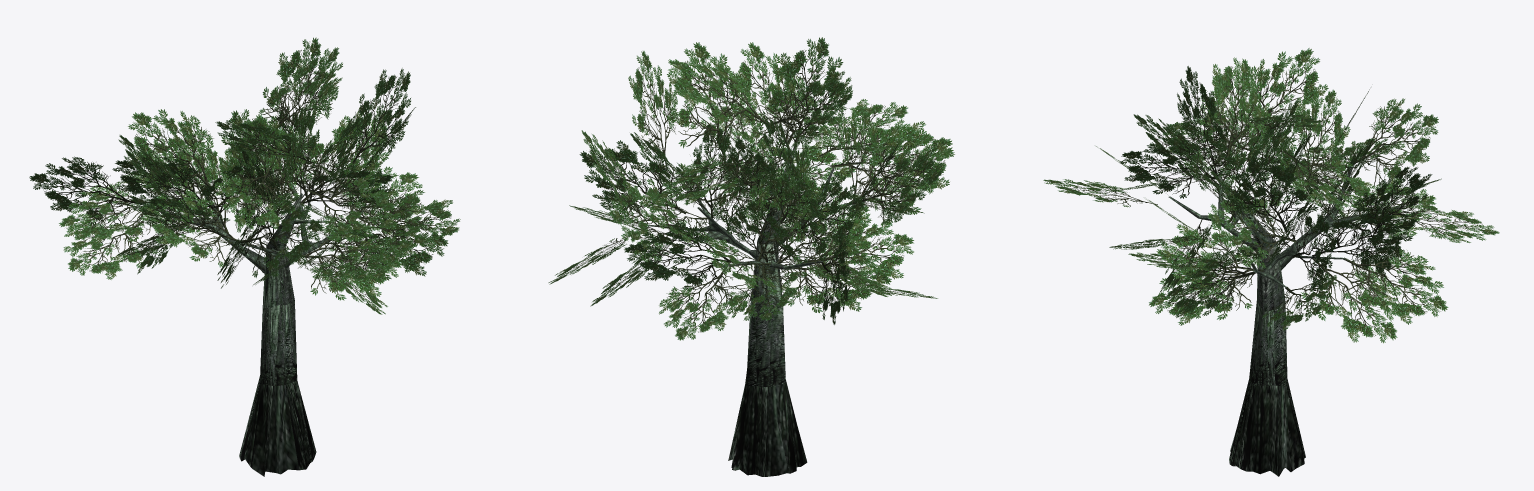
The model's file is big_tree1.fbx.
The picture shows the model from 3 angles, left to right: view 1: azimuth 30°, elevation 25°; view 2: azimuth 150°, elevation 25°; view 3: azimuth 270°, elevation 25°; orthographic projection. The views are drawn at different scales.
Visible parts, largest first — view 1: Plane.004; view 2: Plane.004; view 3: Plane.004.
Part boxes in pixels (<box>): Plane.004: <box>29,37,460,476</box>; Plane.004: <box>548,37,954,476</box>; Plane.004: <box>1043,48,1499,476</box>.
Size of the model in its own units: 1716 by 1669 by 1838.
1 material, 1 textured.
